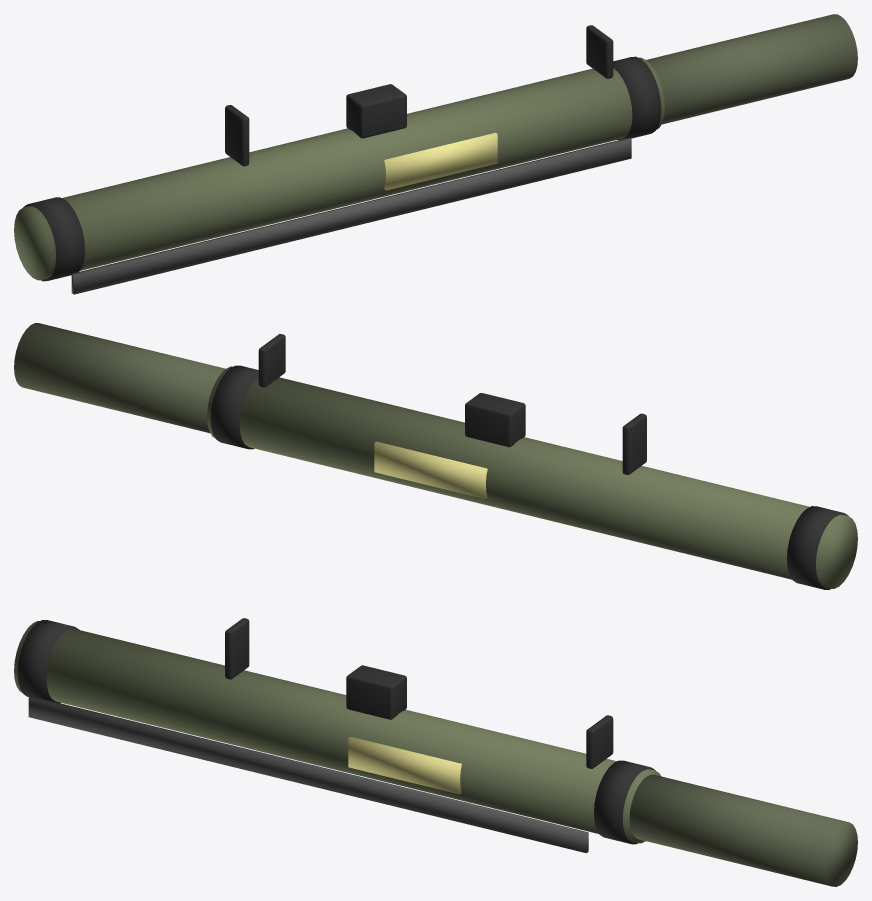
3 renders of one model, top to bottom at view 1: azimuth 30°, elevation 25°; view 2: azimuth 150°, elevation 25°; view 3: azimuth 330°, elevation 25°, orthographic.
Parts seen in each view (by area): view 1: SM_M72; view 2: SM_M72; view 3: SM_M72.
Part boxes in pixels (bbox=[...]): SM_M72: bbox=[14, 14, 857, 294]; SM_M72: bbox=[14, 323, 857, 589]; SM_M72: bbox=[14, 618, 857, 886].
Size of the model in its own units: 0.87 by 0.125 by 0.079.
